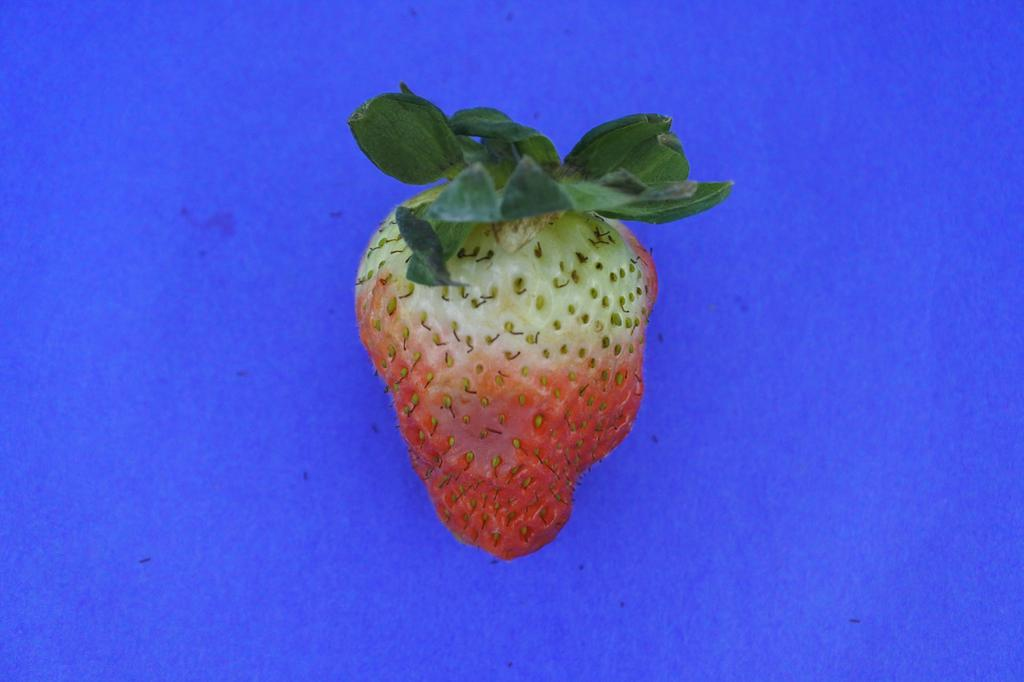red strawberry: (349, 87, 723, 560)
